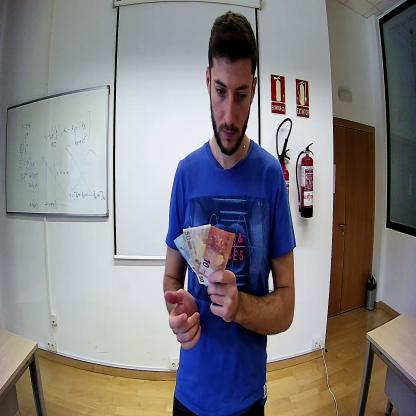billete: (198, 225, 236, 278), (183, 223, 211, 284), (173, 224, 197, 275)
